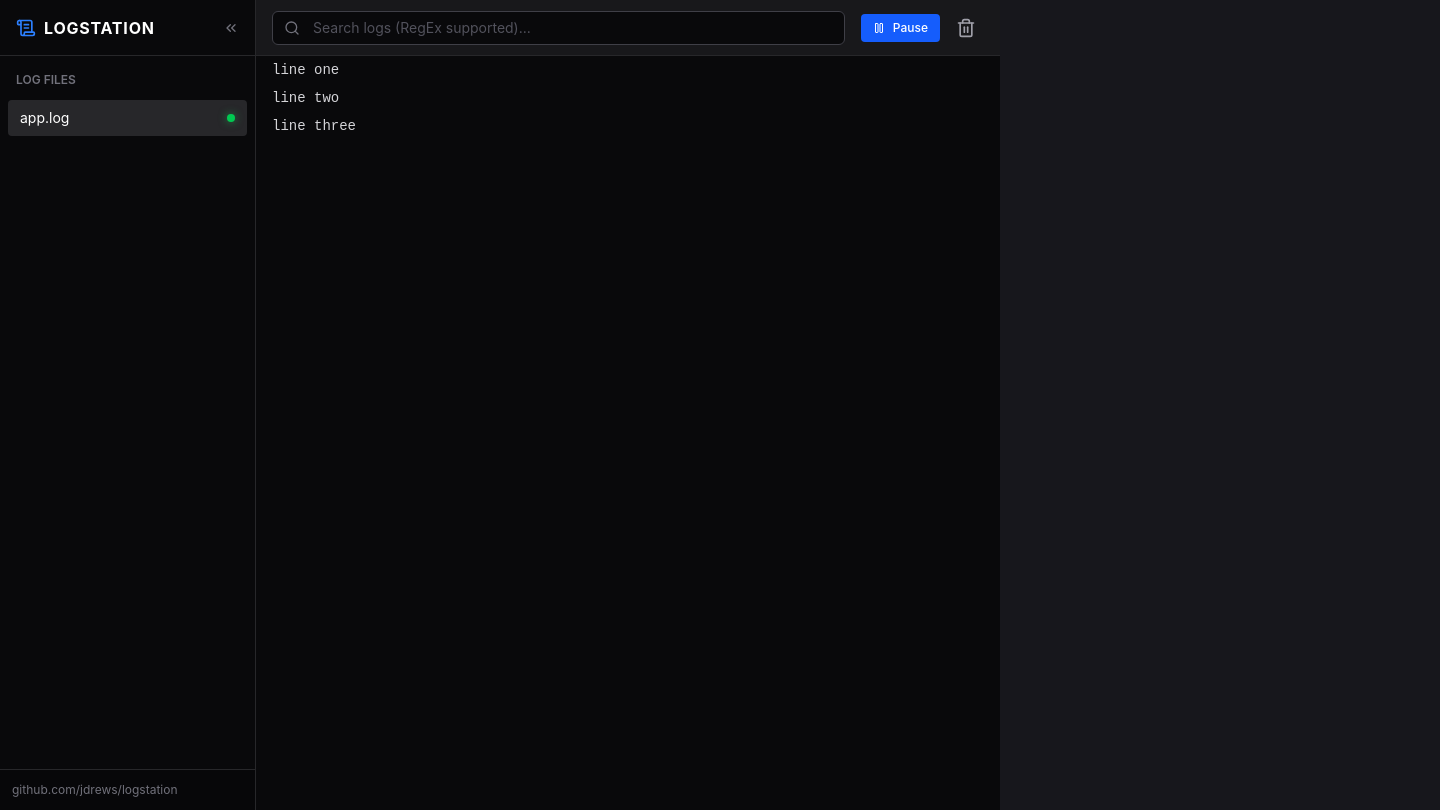
Scenario: MainLayout › search › clears the search with the Clear Search button
Type "line" into the field with placeholder "Search logs (RegEx supported)..." at x=558, y=28, box [272, 10, 845, 44]
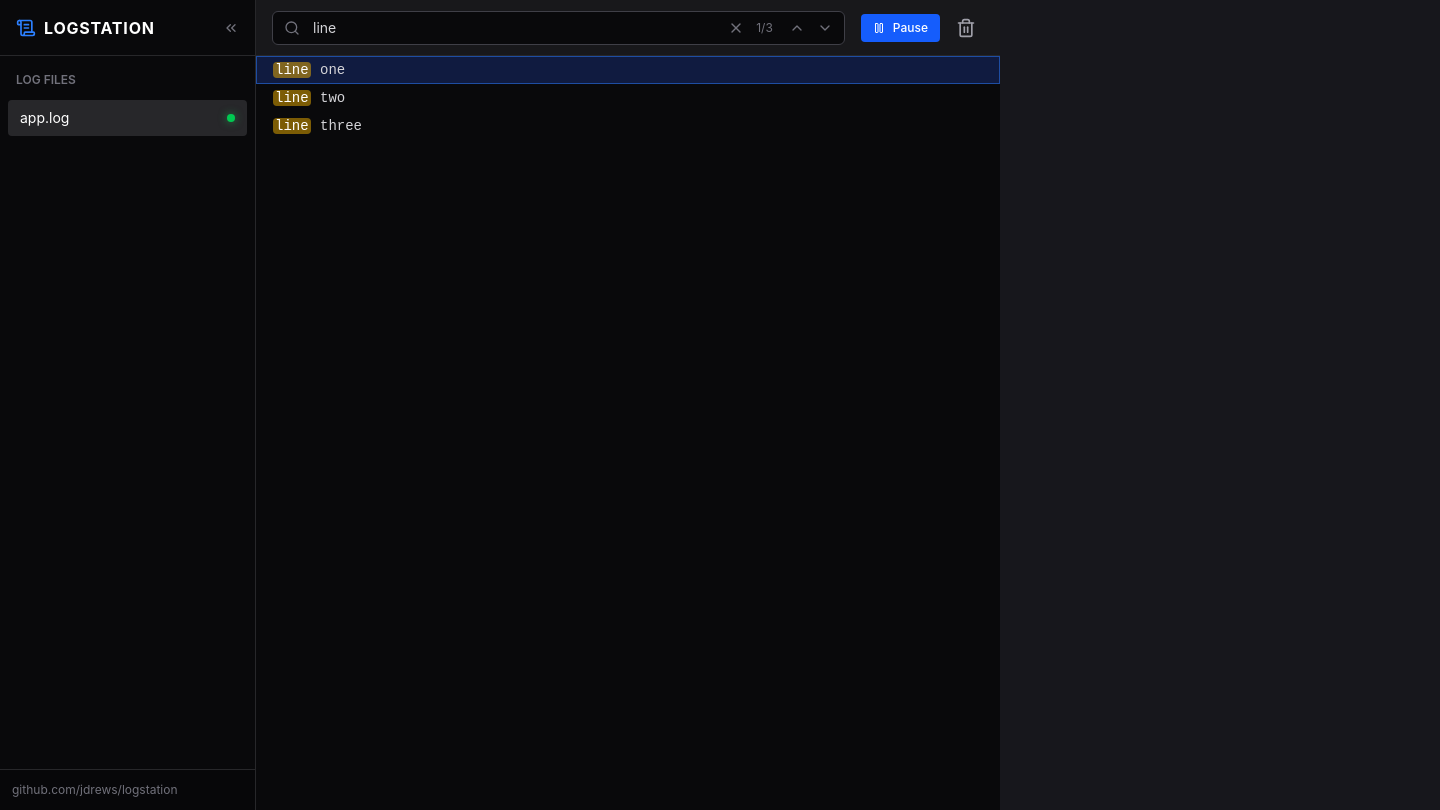
Result: the text "1/3" is shown at [756, 20, 773, 36]
Click the button titled "Clear Search" at x=736, y=28, box [724, 16, 748, 40]
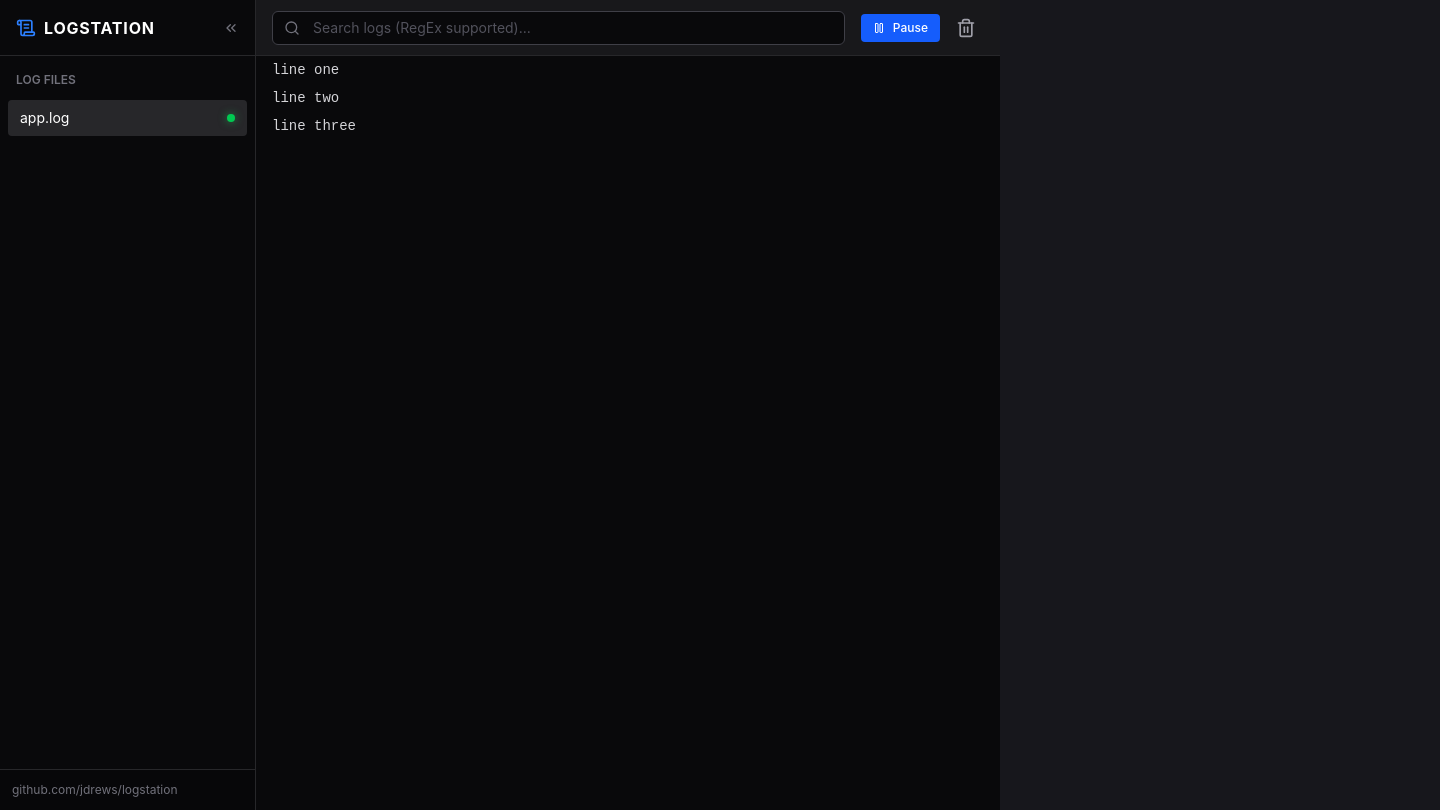
Result: the field with placeholder "Search logs (RegEx supported)..." is empty at [272, 10, 845, 44]
Result: the text "1/3" is gone
